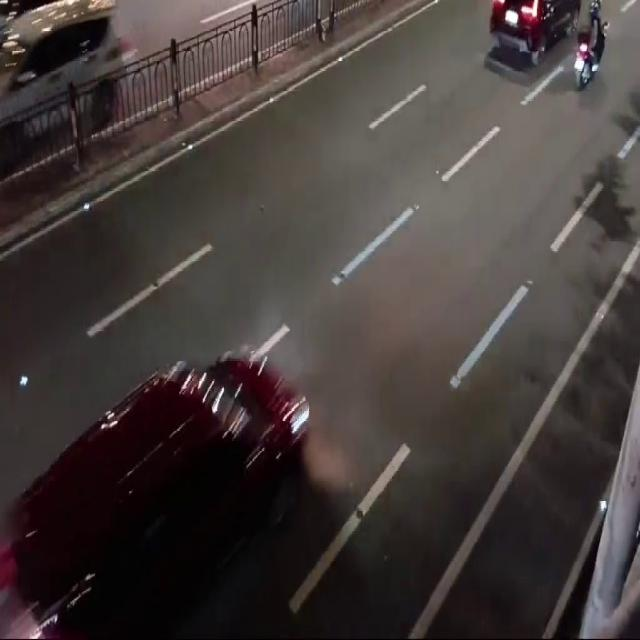car: (13, 349, 309, 626), (479, 1, 580, 90)
motorcycle: (573, 0, 608, 111)
